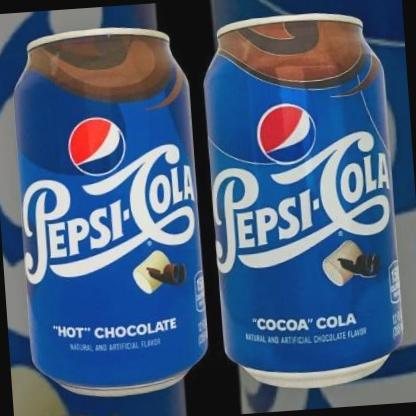alumunium_can: (196, 6, 416, 394), (2, 21, 211, 404)
